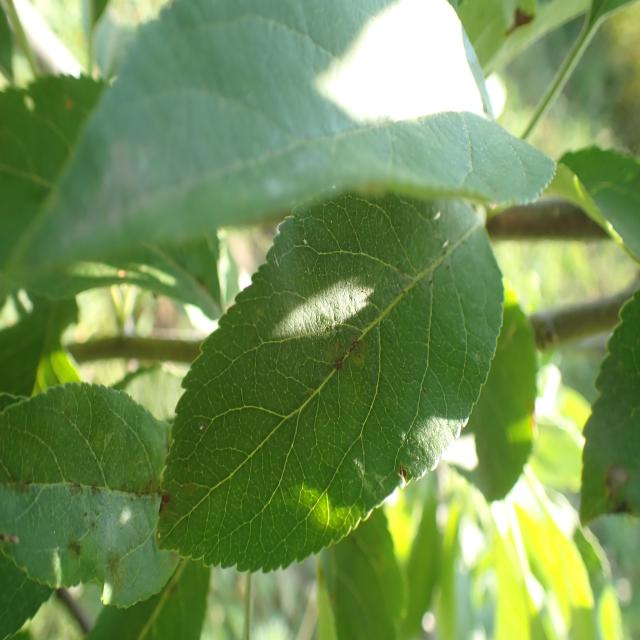scab: (5, 396, 167, 588), (258, 278, 409, 435)
